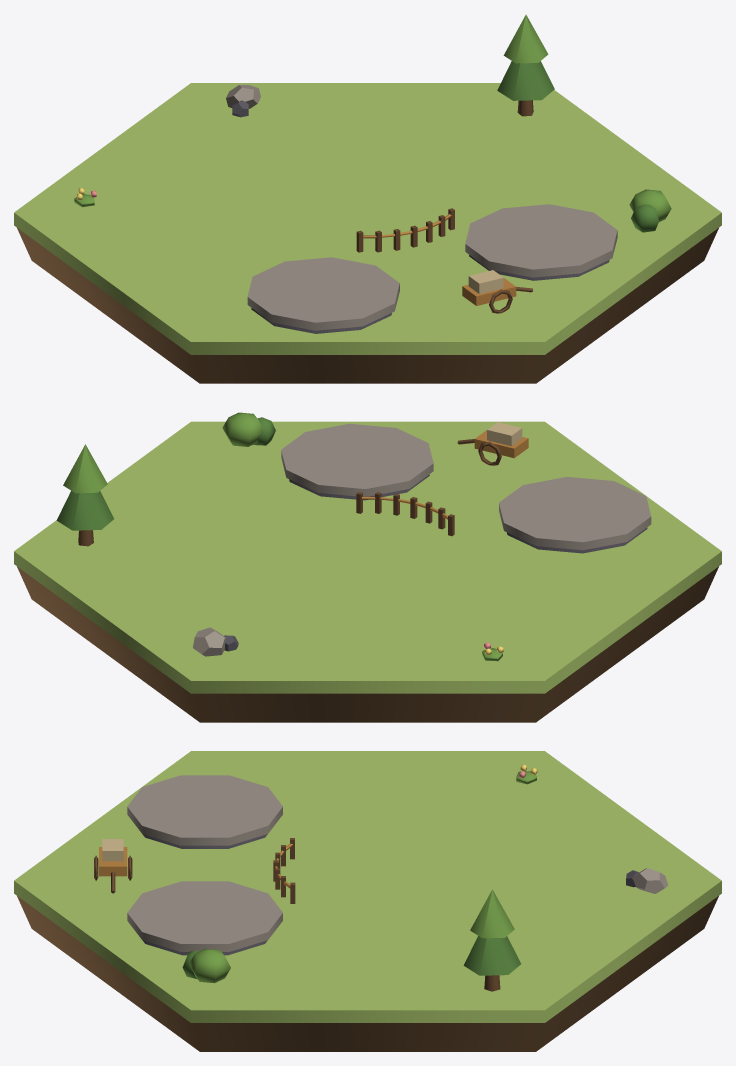
The model's file is tile_sideCross.glb.
3 renders of one model, top to bottom at view 1: azimuth 30°, elevation 25°; view 2: azimuth 150°, elevation 25°; view 3: azimuth 270°, elevation 25°, orthographic.
Parts seen in each view (by area): view 1: ground, ground_soil, tower_slot_2_plate, tower_slot_1_plate, deco_tree_2_crown, fence, deco_tree_2_crown_b, deco_bush_0_a, cart_bed, cart_load, deco_bush_0_b, deco_stone_3_a; view 2: ground, ground_soil, tower_slot_1_plate, tower_slot_2_plate, deco_tree_2_crown, fence, deco_tree_2_crown_b, deco_bush_0_a, deco_stone_3_a, cart_load, cart_bed; view 3: ground, ground_soil, tower_slot_1_plate, tower_slot_2_plate, deco_tree_2_crown, deco_tree_2_crown_b, deco_bush_0_a, fence, deco_stone_3_a, cart_bed, cart_load.
Part boxes in pixels (left/top/right/bottom): ground: left=14, top=83, right=721, bottom=354; ground_soil: left=17, top=228, right=718, bottom=383; tower_slot_2_plate: left=465, top=204, right=617, bottom=277; tower_slot_1_plate: left=247, top=257, right=399, bottom=330; deco_tree_2_crown: left=497, top=61, right=554, bottom=100; fence: left=356, top=208, right=454, bottom=252; deco_tree_2_crown_b: left=503, top=14, right=548, bottom=63; deco_bush_0_a: left=629, top=189, right=671, bottom=221; cart_bed: left=462, top=278, right=516, bottom=305; cart_load: left=468, top=270, right=503, bottom=293; deco_bush_0_b: left=631, top=204, right=658, bottom=232; deco_stone_3_a: left=226, top=85, right=260, bottom=108; ground: left=14, top=421, right=721, bottom=693; ground_soil: left=17, top=566, right=718, bottom=722; tower_slot_1_plate: left=499, top=477, right=651, bottom=550; tower_slot_2_plate: left=281, top=423, right=433, bottom=496; deco_tree_2_crown: left=56, top=491, right=113, bottom=530; fence: left=356, top=492, right=454, bottom=536; deco_tree_2_crown_b: left=63, top=444, right=107, bottom=493; deco_bush_0_a: left=222, top=412, right=263, bottom=446; deco_stone_3_a: left=193, top=627, right=226, bottom=656; cart_load: left=487, top=422, right=522, bottom=446; cart_bed: left=474, top=430, right=528, bottom=458; ground: left=14, top=751, right=721, bottom=1022; ground_soil: left=17, top=896, right=718, bottom=1051; tower_slot_1_plate: left=127, top=775, right=282, bottom=845; tower_slot_2_plate: left=127, top=881, right=282, bottom=951; deco_tree_2_crown: left=463, top=936, right=520, bottom=975; deco_tree_2_crown_b: left=470, top=889, right=514, bottom=938; deco_bush_0_a: left=189, top=948, right=230, bottom=983; fence: left=273, top=838, right=295, bottom=903; deco_stone_3_a: left=632, top=868, right=668, bottom=893; cart_bed: left=99, top=847, right=127, bottom=876; cart_load: left=102, top=839, right=123, bottom=861.
Bounding box in the file's own units: 1.73 × 0.4588 × 2.
